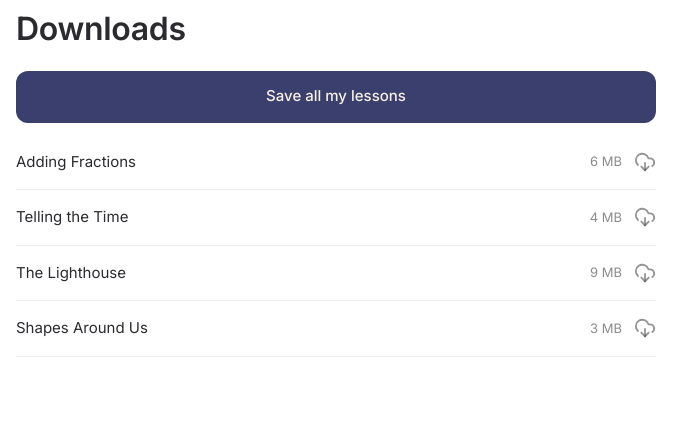
it: the finished bulk button › drops the line once a lesson is removed
The width and height of the screenshot is (673, 433).
Click the button "Save all my lessons" at (336,97), box [16, 71, 656, 123]
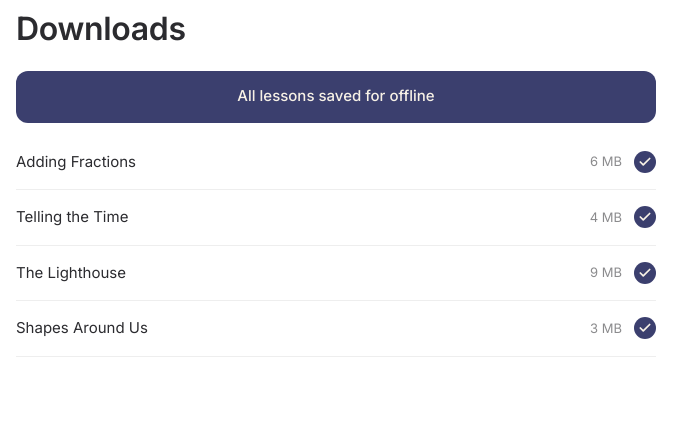
Click the button "All lessons saved for offline" at (336,97), box [16, 71, 656, 123]
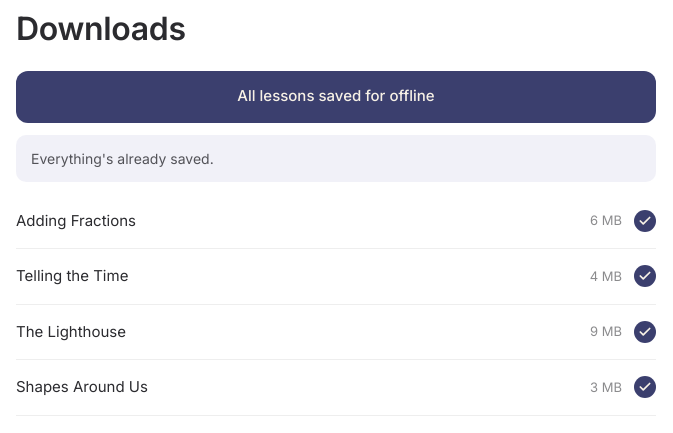
Click the text "Adding Fractions" at (76,220), box [16, 211, 136, 230]
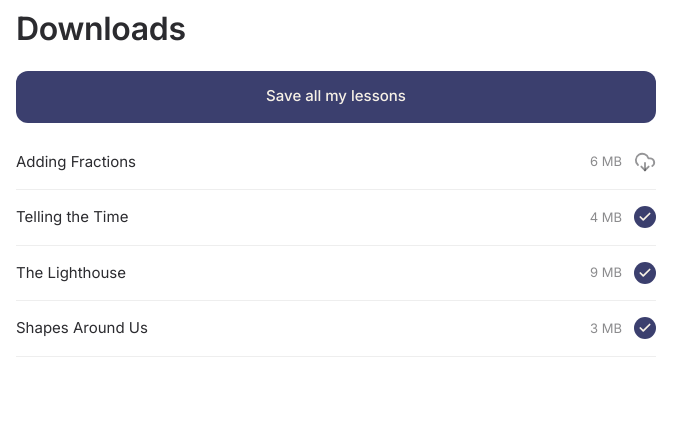
Expected: the text "Everything's already saved." is gone
Expected: the button "Save all my lessons" is shown, [16, 71, 656, 123]
